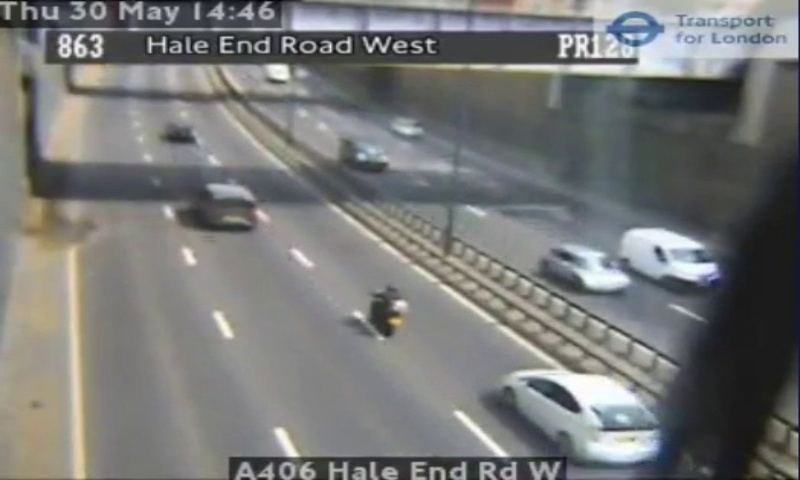car: (500, 369, 664, 464)
motorcycle: (370, 283, 409, 336)
van: (201, 184, 254, 229)
